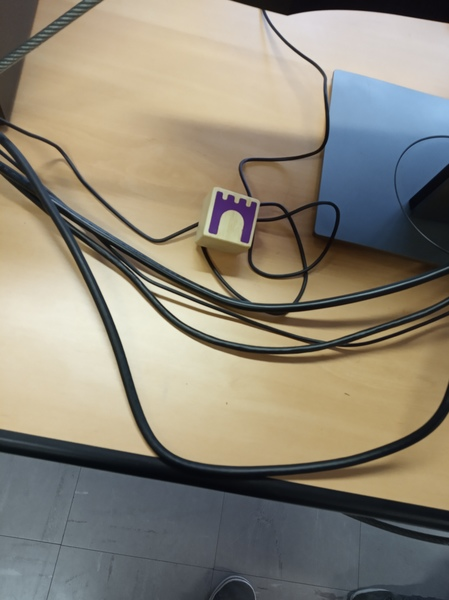violet: (207, 185, 258, 251)
